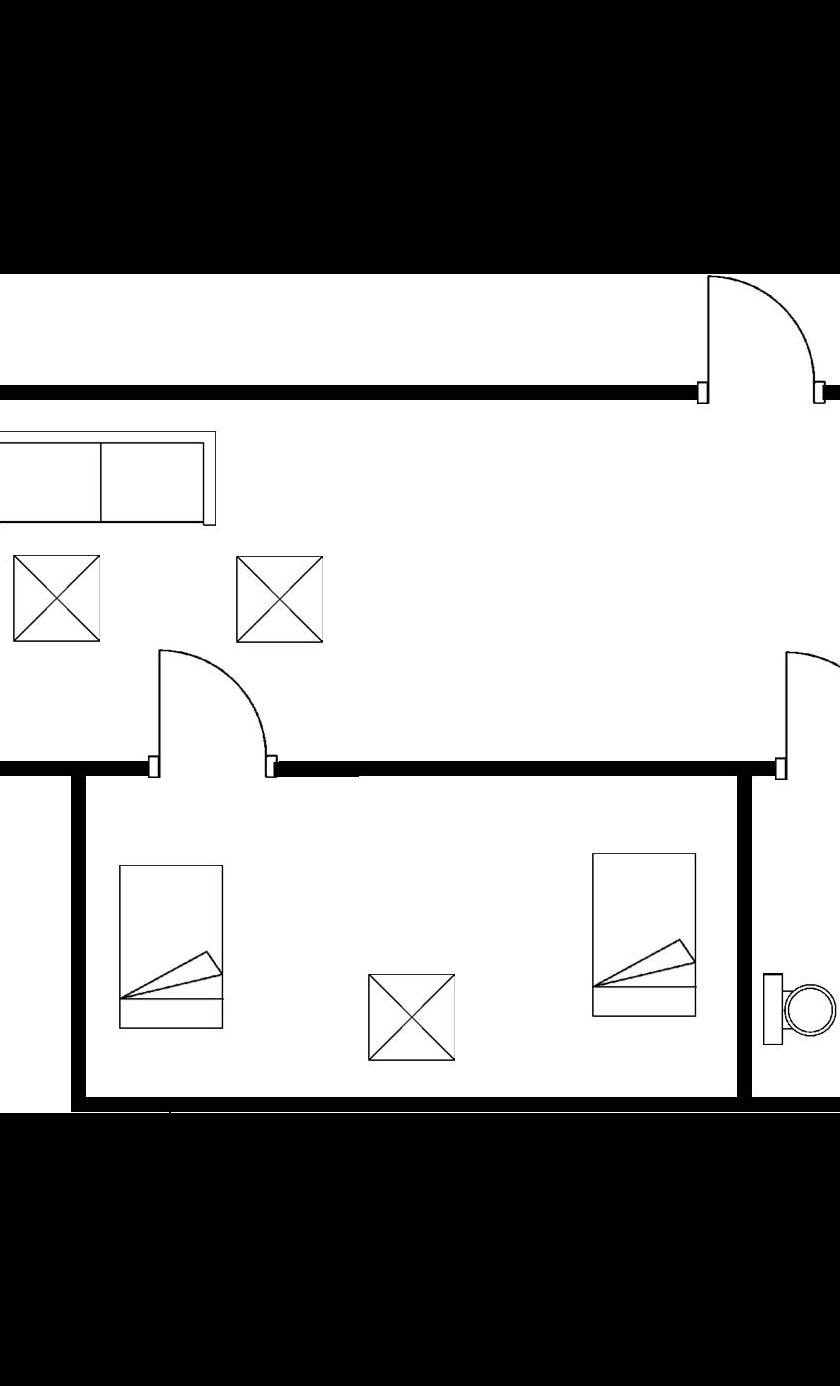bed: (580, 844, 703, 1028), (110, 856, 232, 1033)
sofa: (0, 419, 224, 532)
toilet: (756, 964, 840, 1051)
